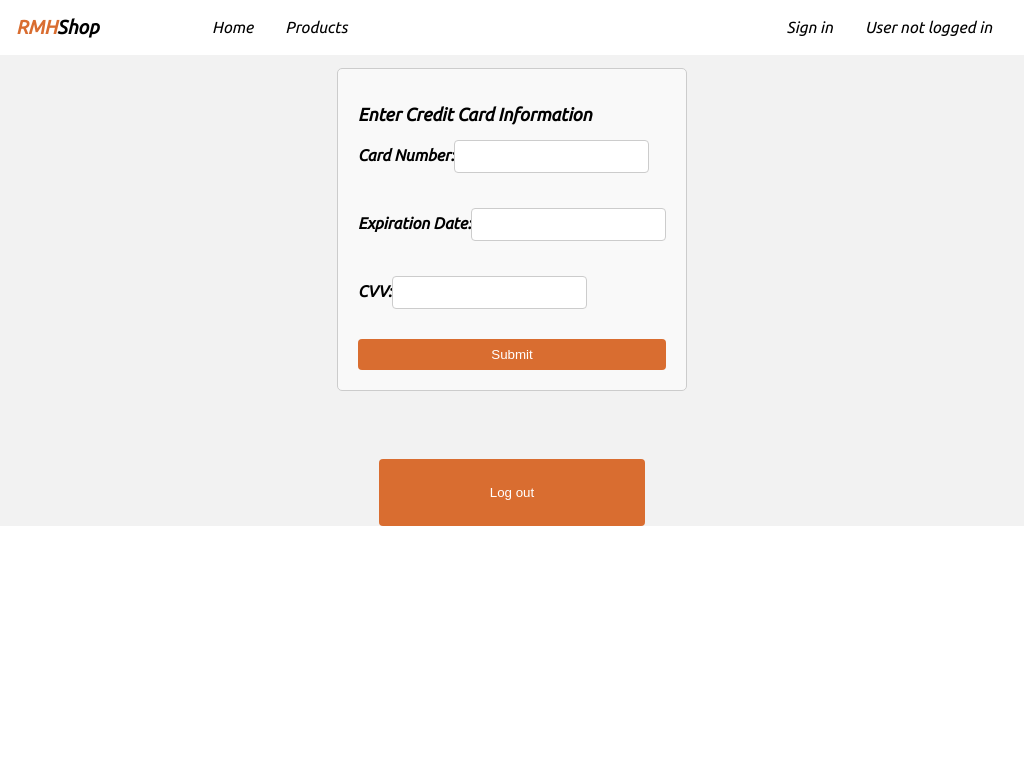
it: Userpage › displays success message when credit card form is submitted with valid input
In the field labelled "Card Number:": [552, 156] box top-left (454, 140), bottom-right (649, 173), type "1234567890123456"
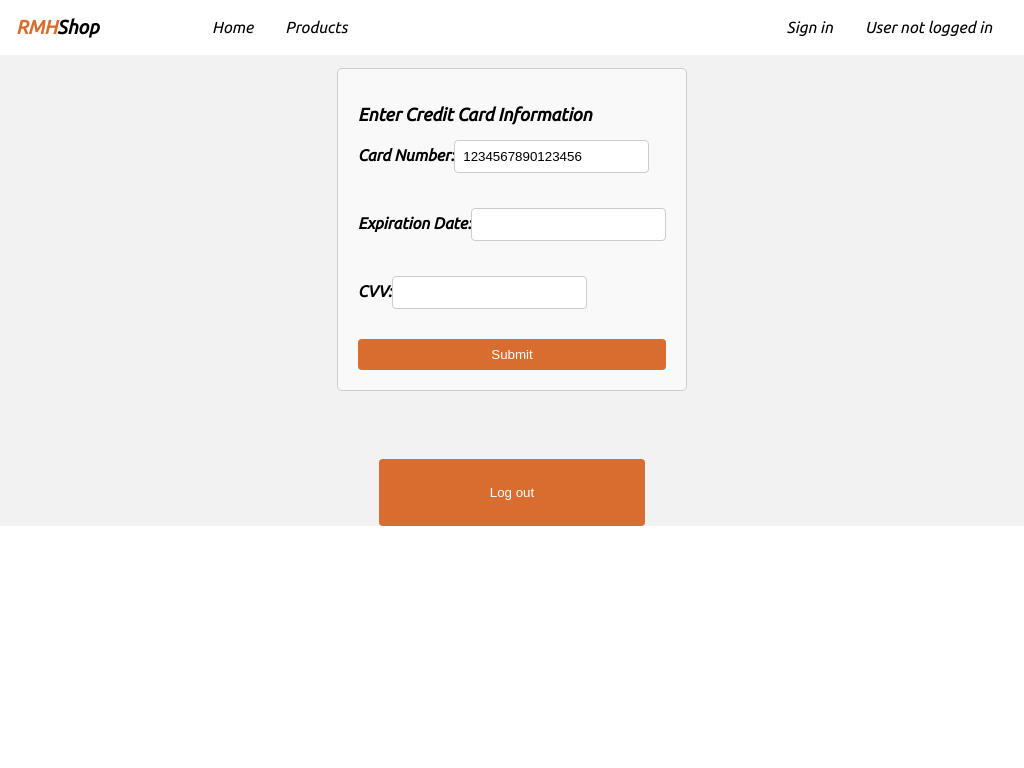
In the field labelled "Expiration Date:": [569, 224] box top-left (471, 208), bottom-right (666, 241), type "12/24"
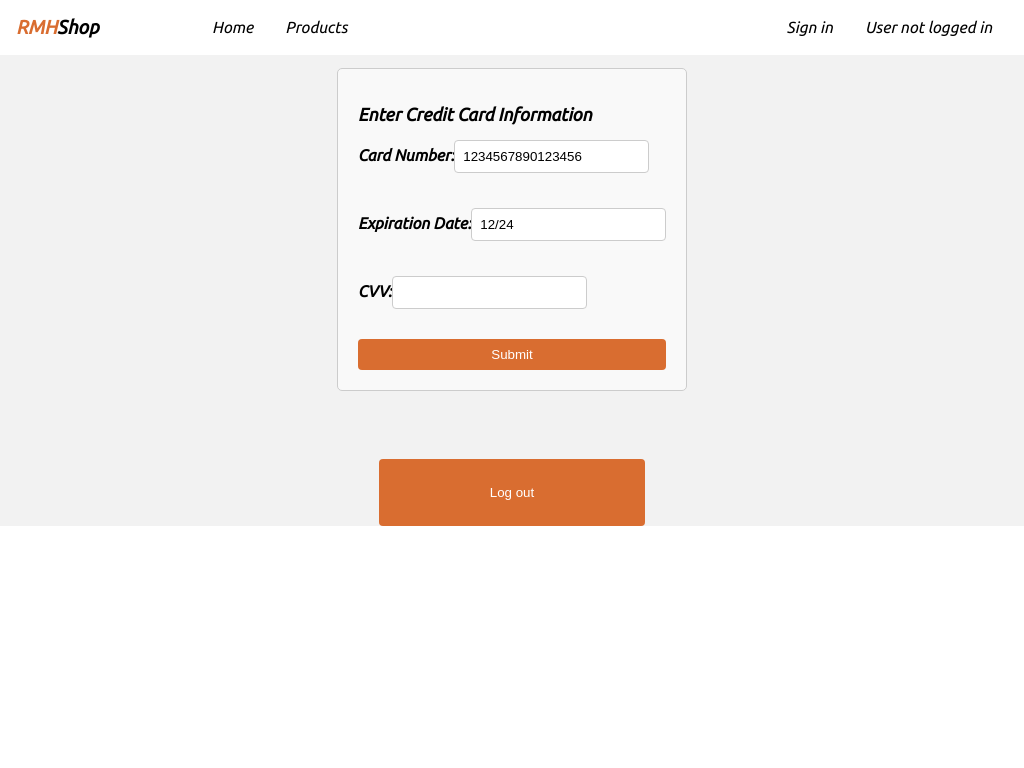
In the field labelled "CVV:": [489, 292] box top-left (392, 276), bottom-right (587, 309), type "123"
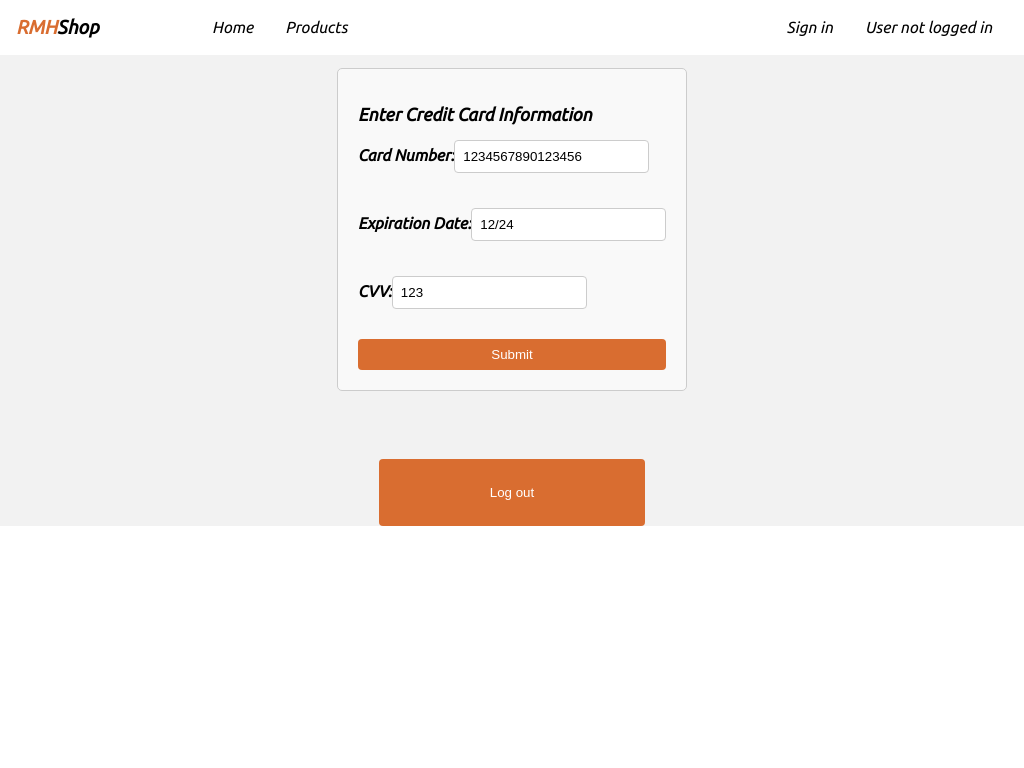
Click the button "Submit": [512, 354] box top-left (358, 339), bottom-right (666, 370)
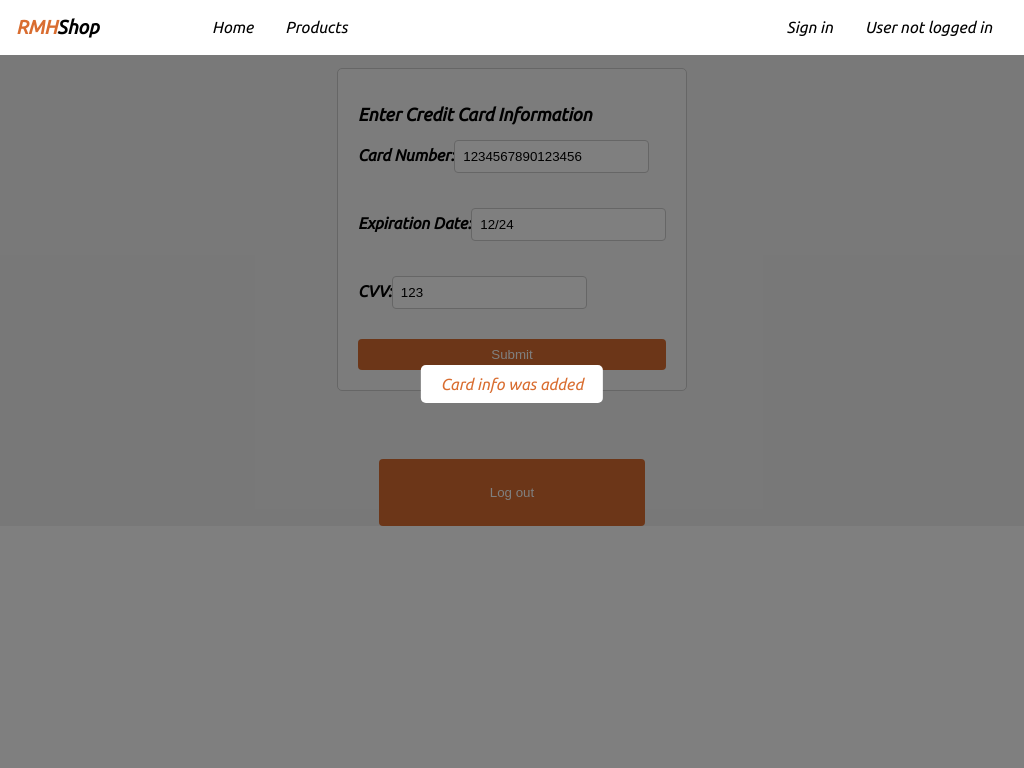
Check: the text "Card info was added" is shown, box top-left (421, 365), bottom-right (603, 403)
